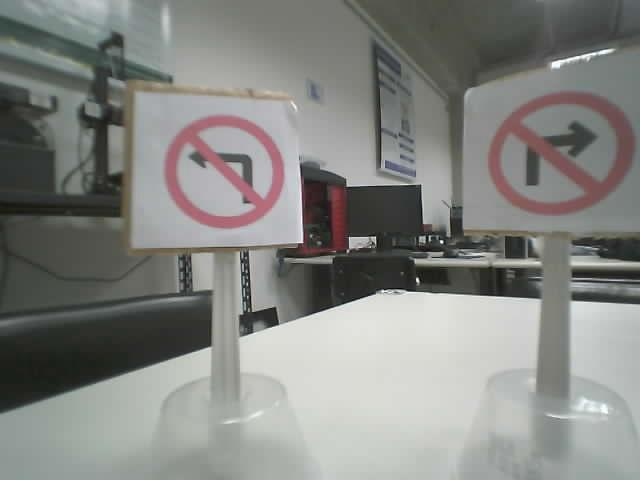R-25a_esquerda: (163, 113, 286, 229)
R-4b_proibido-direita: (486, 90, 634, 215)
